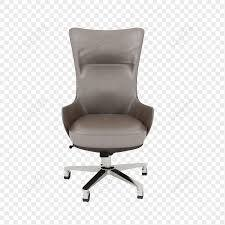chair: (62, 27, 155, 202)
